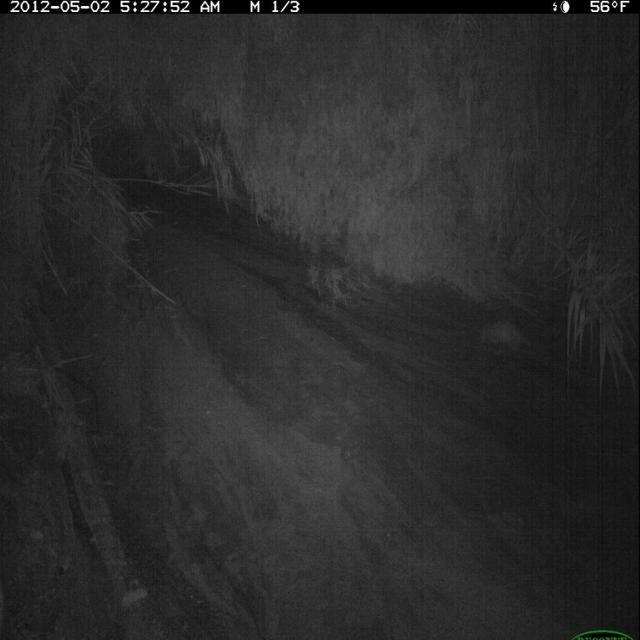opossum: (475, 310, 537, 359)
